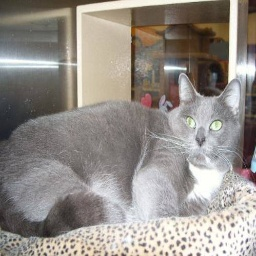cat: (2, 78, 240, 242)
